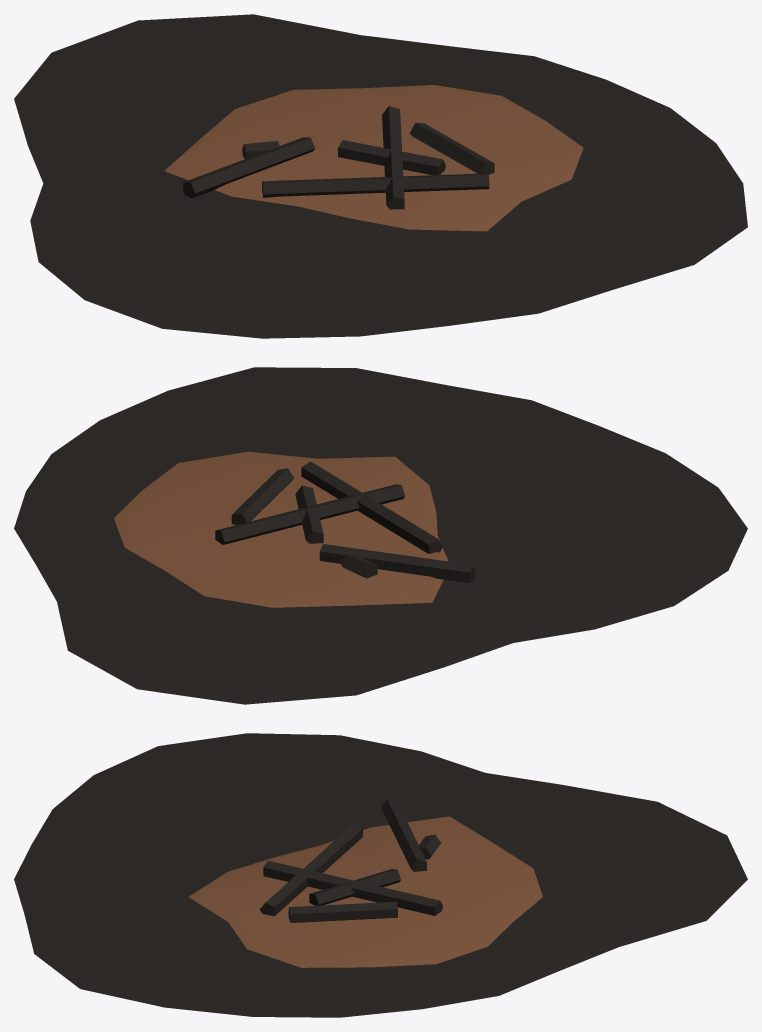
The model's file is deco_decal_scorch.fbx.
3 views of the same model, one above another, from view 1: azimuth 30°, elevation 25°; view 2: azimuth 150°, elevation 25°; view 3: azimuth 270°, elevation 25° (orthographic). The views are drawn at different scales.
Visible parts, largest first — view 1: Decal_Scorch_Scorch; view 2: Decal_Scorch_Scorch; view 3: Decal_Scorch_Scorch.
Boxes of the visible parts, <box> form: Decal_Scorch_Scorch: <box>14,14,747,338</box>; Decal_Scorch_Scorch: <box>14,367,747,704</box>; Decal_Scorch_Scorch: <box>14,733,747,1017</box>.
Bounding box in the file's own units: 219 × 6.25 × 239.
